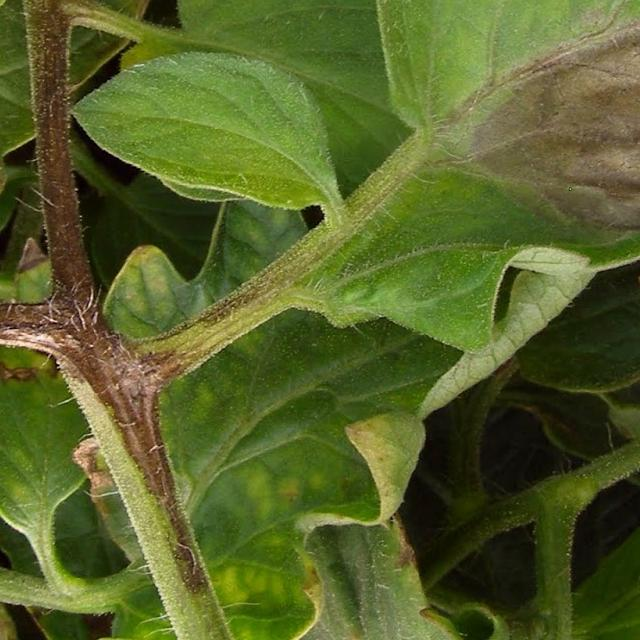Tomato mold leaf: (356, 0, 640, 348), (63, 39, 351, 230)
